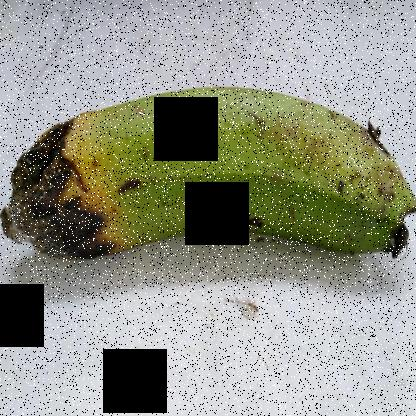rotten: (0, 108, 150, 311)
unripe: (103, 70, 415, 286)
